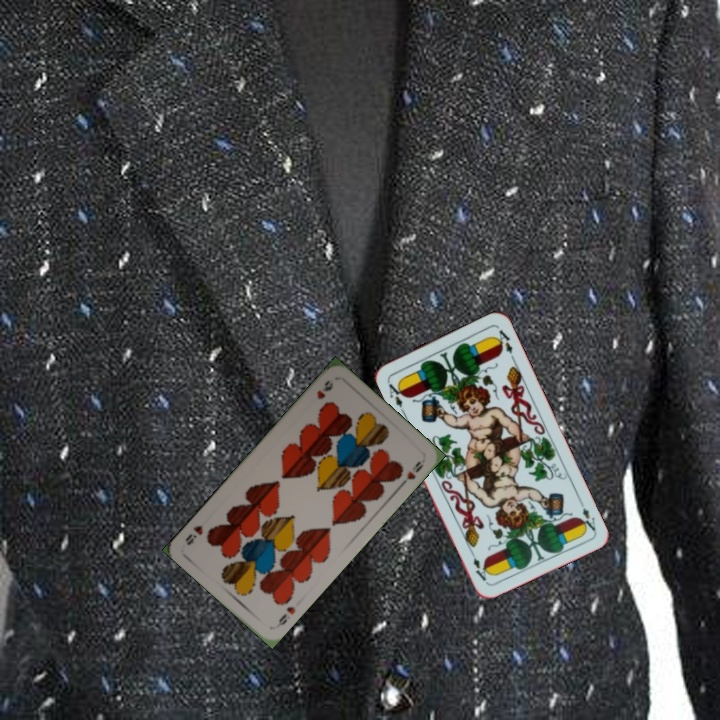EA: (574, 495, 598, 535), (383, 377, 408, 415)
H9: (272, 602, 298, 631), (313, 376, 336, 402)
